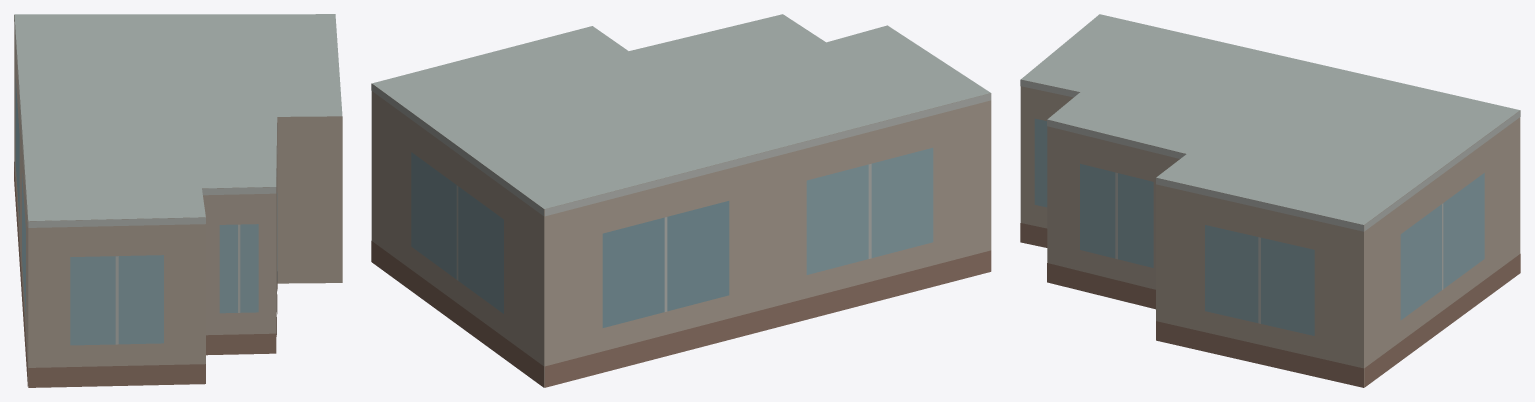
The model's file is survey-upis-32828540.glb.
3 views of the same model, side by side, from view 1: azimuth 30°, elevation 25°; view 2: azimuth 150°, elevation 25°; view 3: azimuth 270°, elevation 25° (orthographic). The views are drawn at different scales.
Parts seen in each view (by area): view 1: survey-upis-32828540.tmp; view 2: survey-upis-32828540.tmp; view 3: survey-upis-32828540.tmp.
Boxes of the visible parts, x1,y1,x2,y2 form: survey-upis-32828540.tmp: (14, 14, 342, 387); survey-upis-32828540.tmp: (371, 14, 991, 387); survey-upis-32828540.tmp: (1020, 14, 1520, 387).
Bounding box in the file's own units: 8.49 × 3.05 × 8.5.
